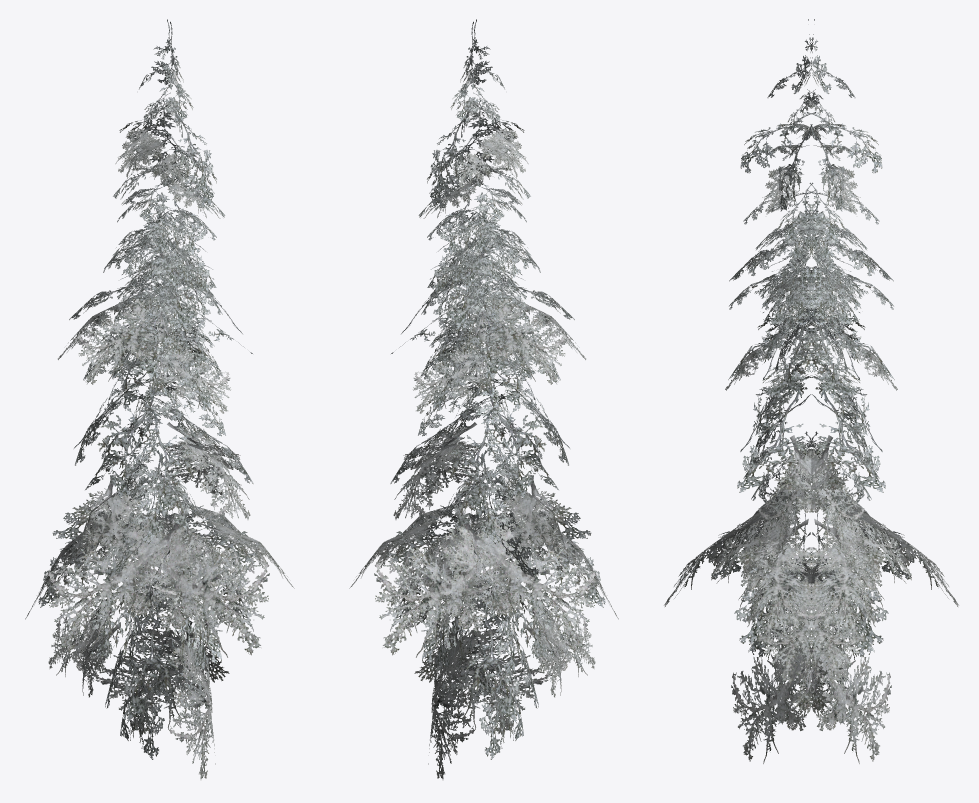
3 views of the same model, side by side, from view 1: azimuth 30°, elevation 25°; view 2: azimuth 150°, elevation 25°; view 3: azimuth 270°, elevation 25° (orthographic).
Parts seen in each view (by area): view 1: 1_zw_01_02; view 2: 1_zw_01_02; view 3: 1_zw_01_02.
Part boxes in pixels (<box>): 1_zw_01_02: <box>25,19,294,779</box>; 1_zw_01_02: <box>349,19,618,779</box>; 1_zw_01_02: <box>664,19,958,763</box>.
Bounding box in the file's own units: 1.9 × 5.52 × 2.01.
Materials: 1 (1 with a texture image).
